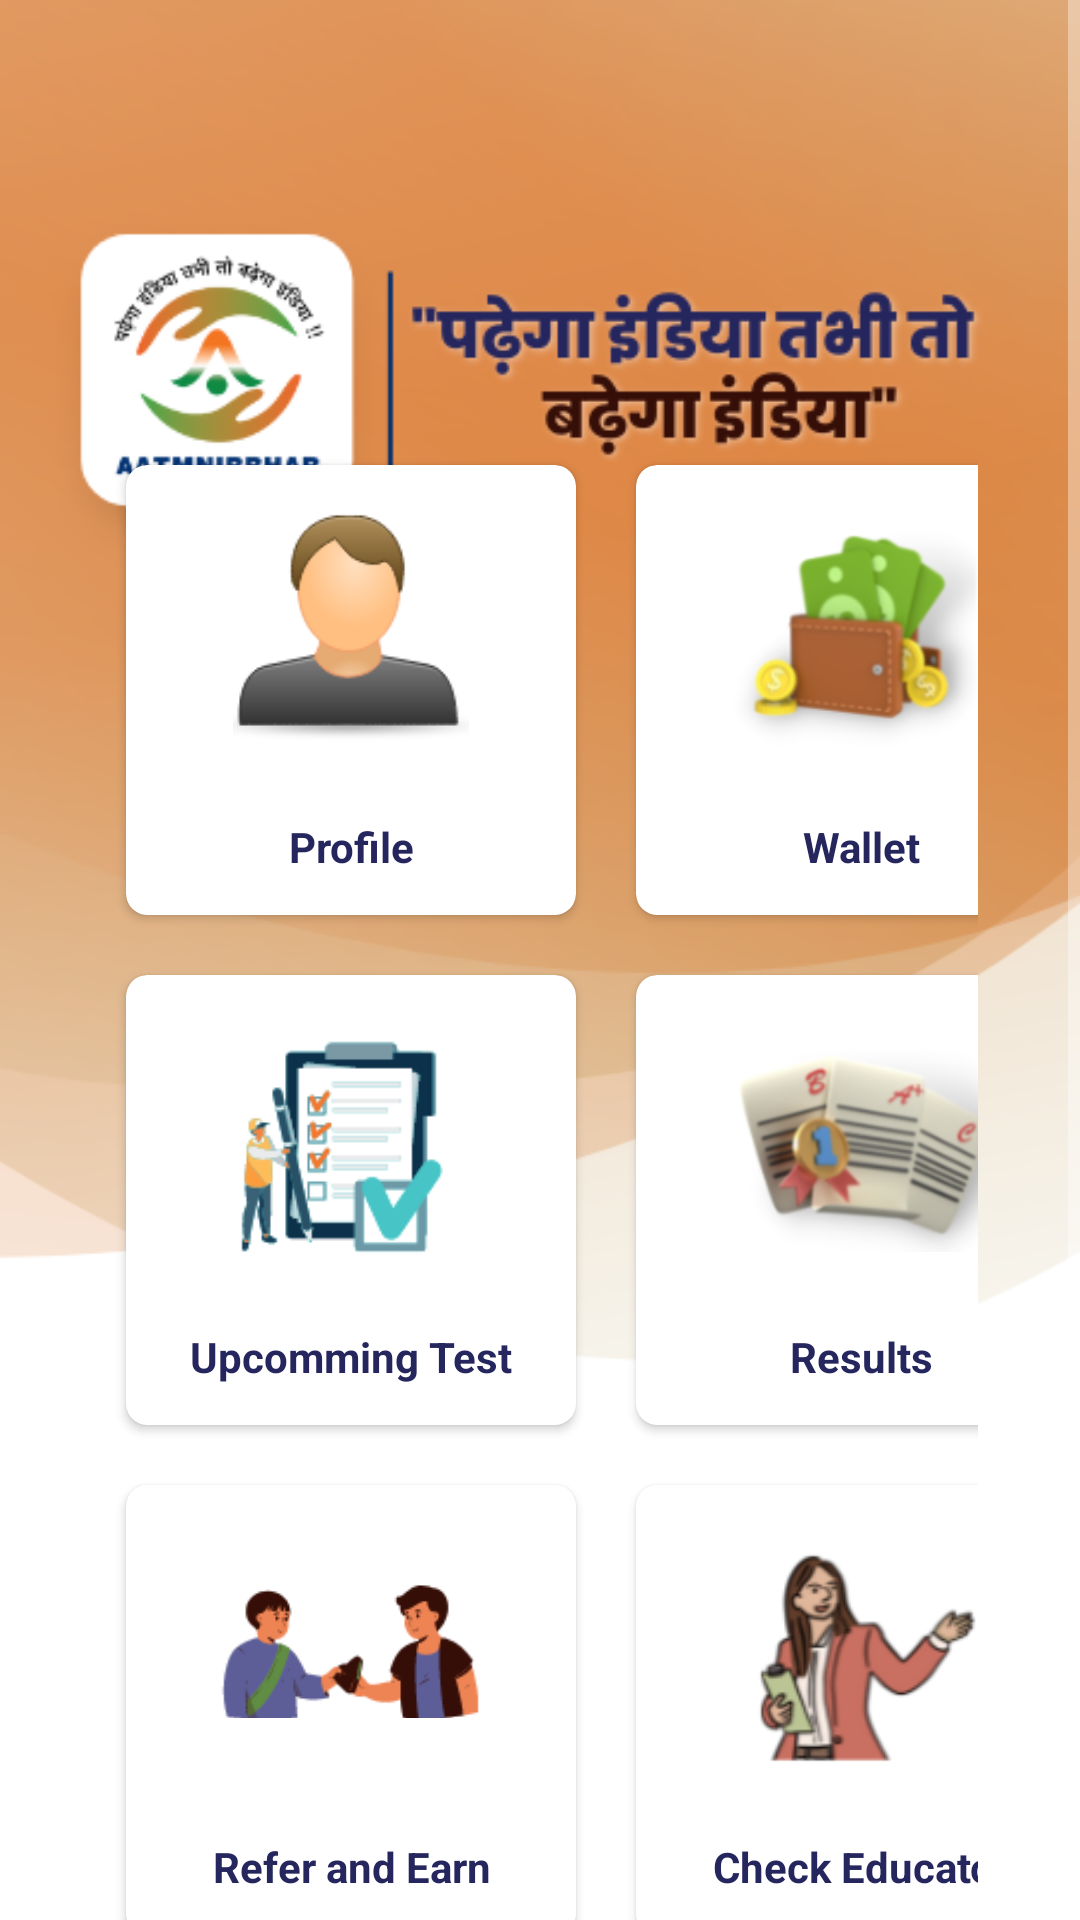

Icon bounding boxes for this 1080px×1920px phone screenshot, format (x1, y1, x2, y2):
dashtchrprof: (237, 515, 459, 734)
resulttchedbs: (741, 1004, 996, 1239)
ticktchrdshb: (241, 1041, 443, 1252)
waltdashtchr: (752, 535, 964, 725)
